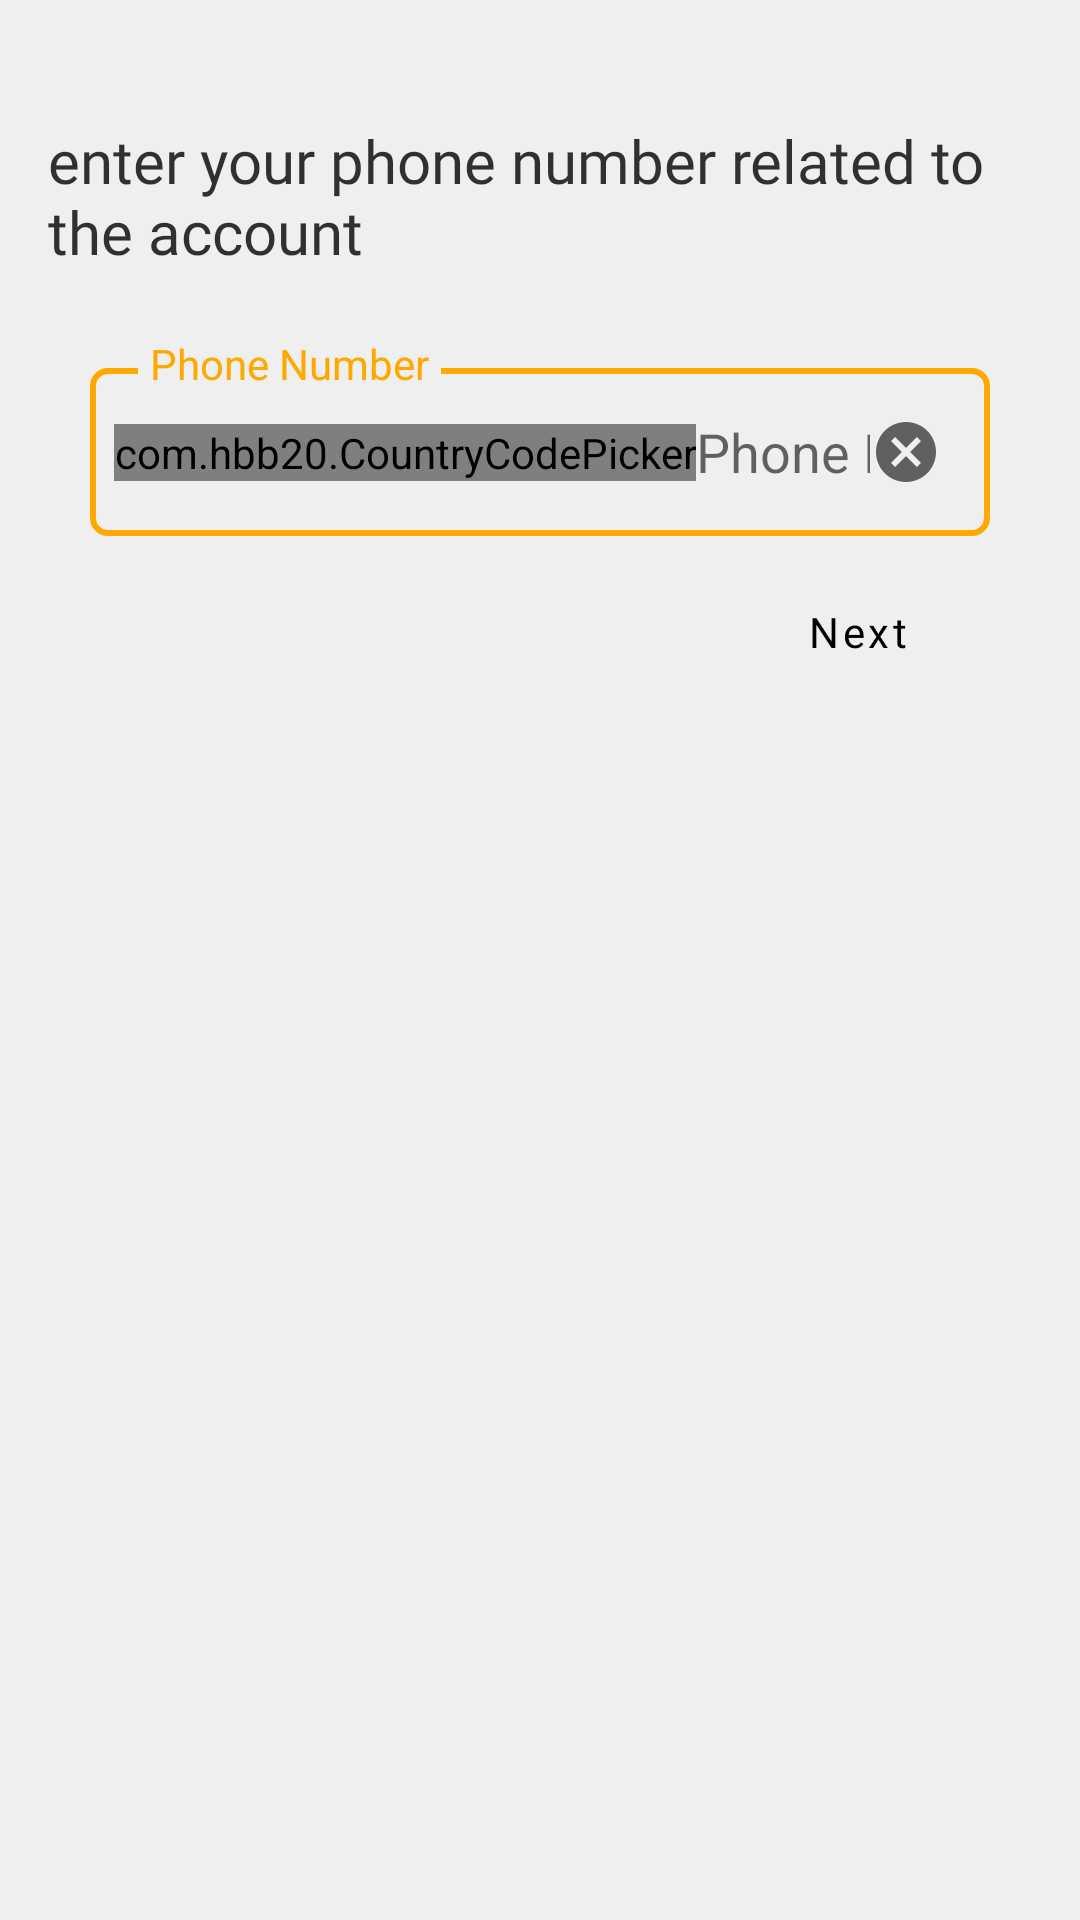

Named icons in this screenshot (1080 × 1920) and their centers, (x,y):
cancel: (906,452)
